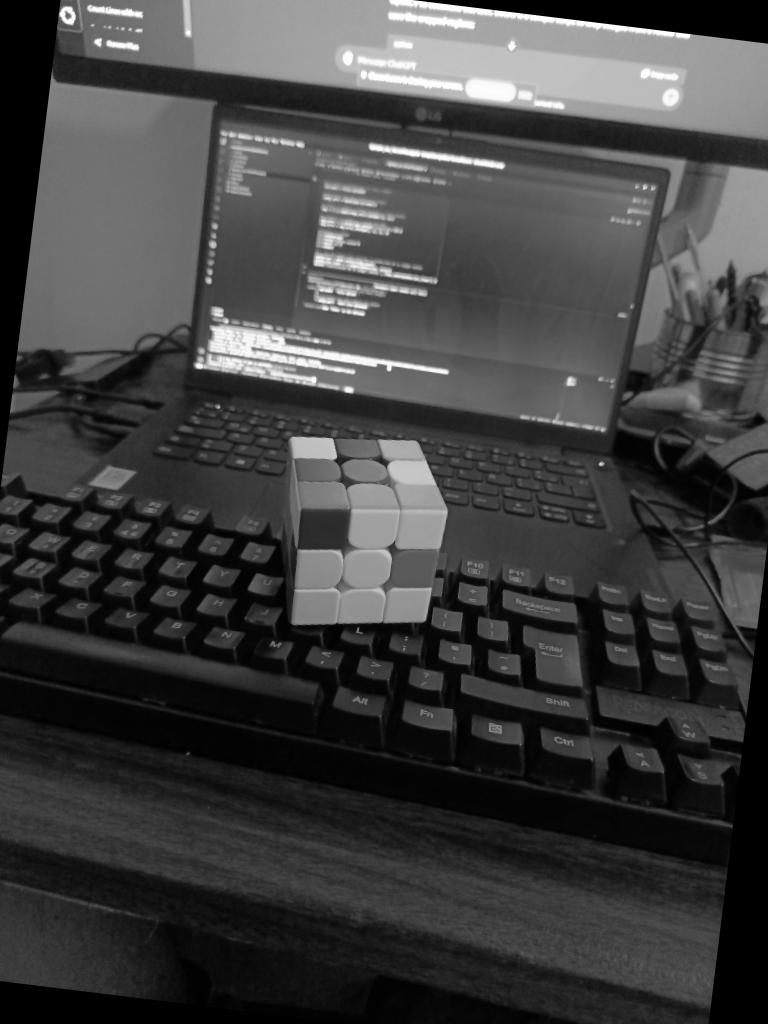rubik: (262, 422, 458, 642)
